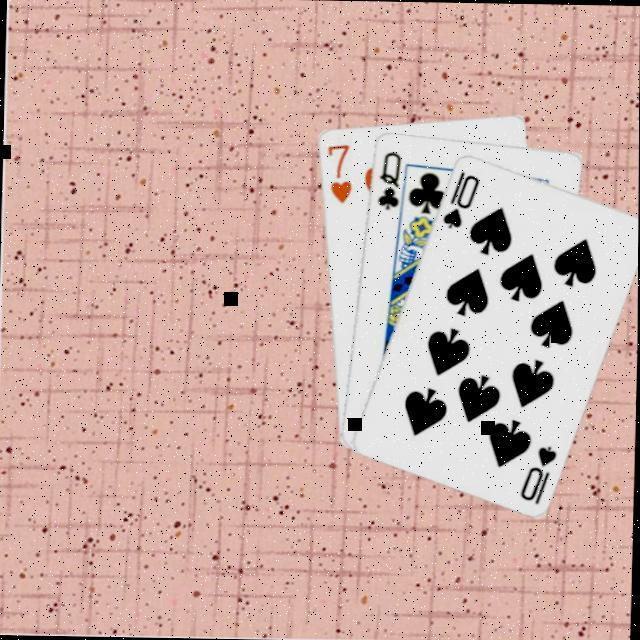10S: (518, 439, 561, 506), (440, 166, 483, 230)
7H: (324, 138, 355, 206)
QC: (374, 146, 405, 212)
